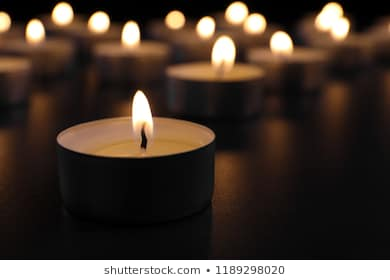Fire: (129, 88, 158, 144), (210, 35, 238, 70)
